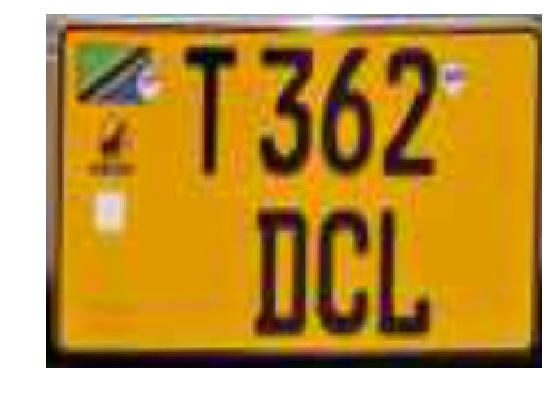T: (172, 39, 247, 184)
